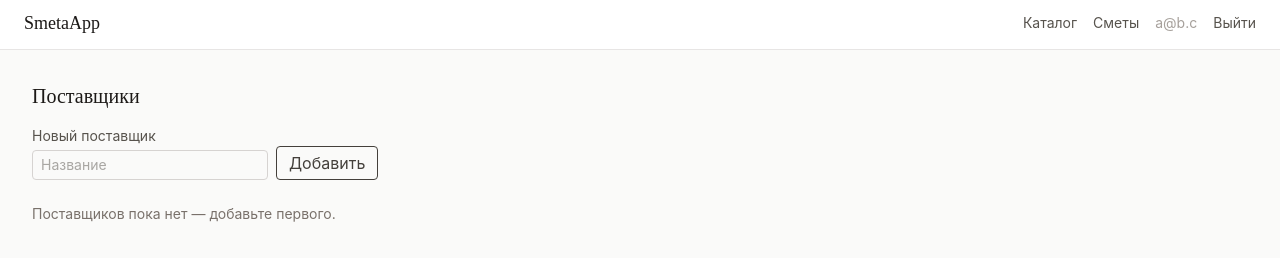
SuppliersPage › creates a supplier (POST) and shows it
Expected: the text "Поставщиков пока нет — добавьте первого." is shown, [32,205,336,222]
Type "Bolid" into the field with placeholder "Название". click: (150, 165)
box: [32,150,268,180]
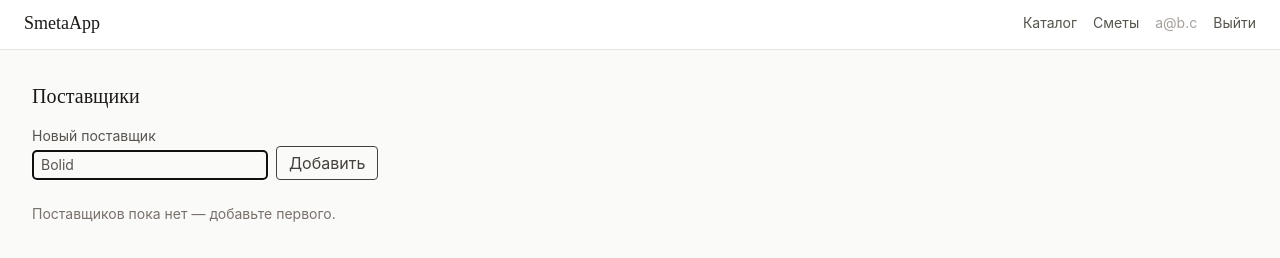
Click the button "Добавить". click: (327, 163)
box: [276,146,378,180]
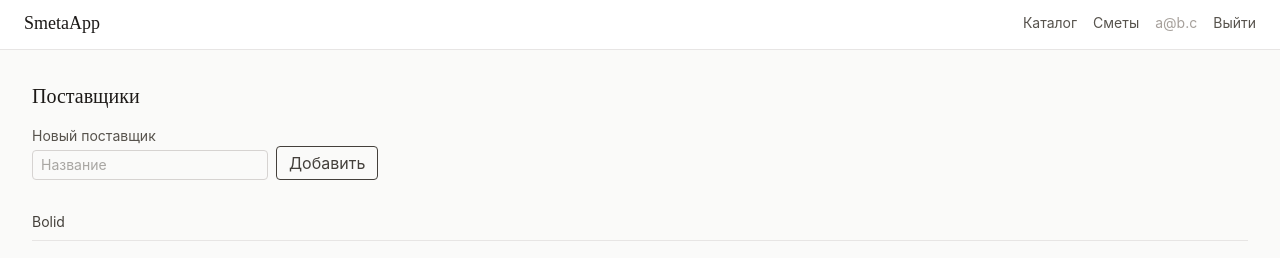
Result: the list item "Bolid" is shown at [32,204,1248,241]
